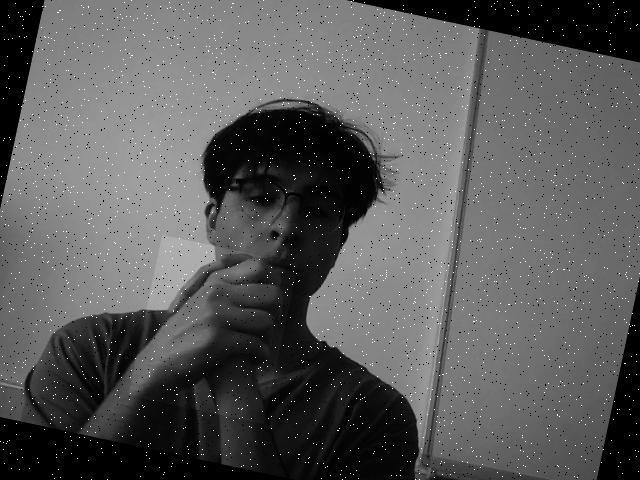friend: (134, 254, 289, 415)
